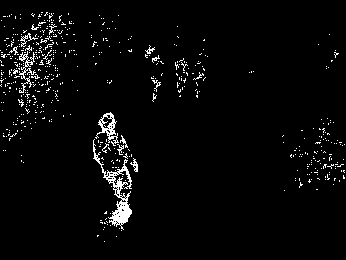person: (87, 112, 143, 229)
